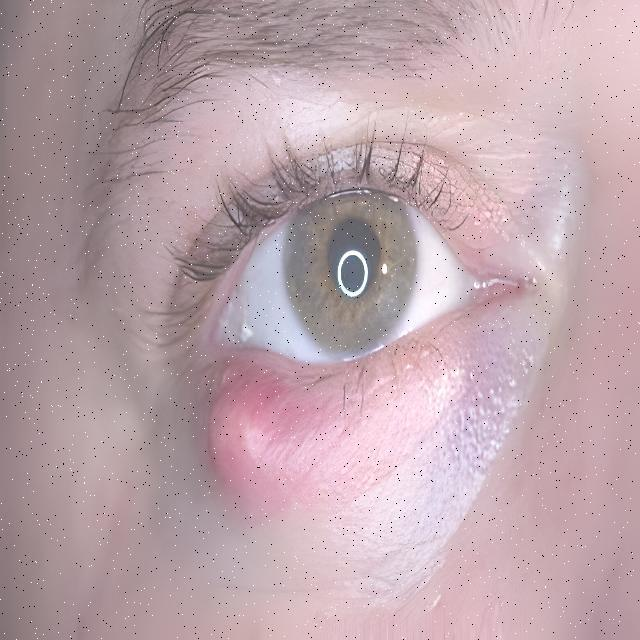Stye: (162, 358, 345, 514)
